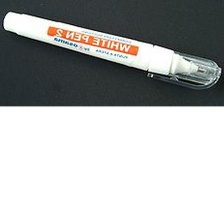correction_fluid: (1, 8, 223, 91)
